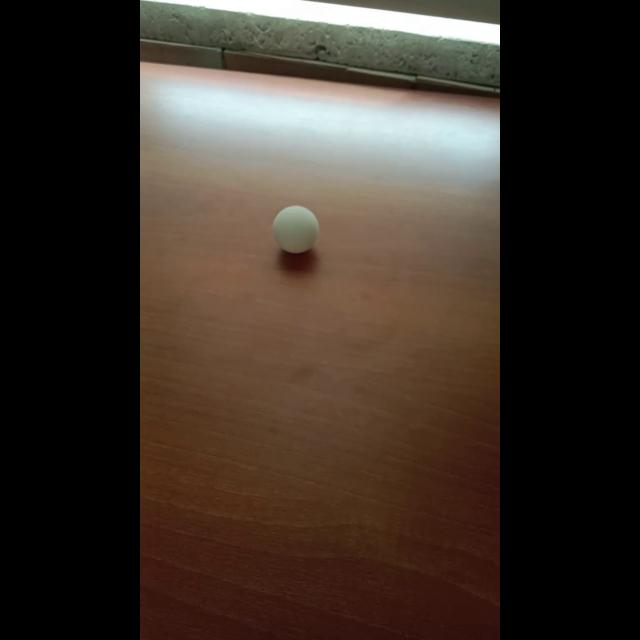white ball: (271, 204, 319, 254)
